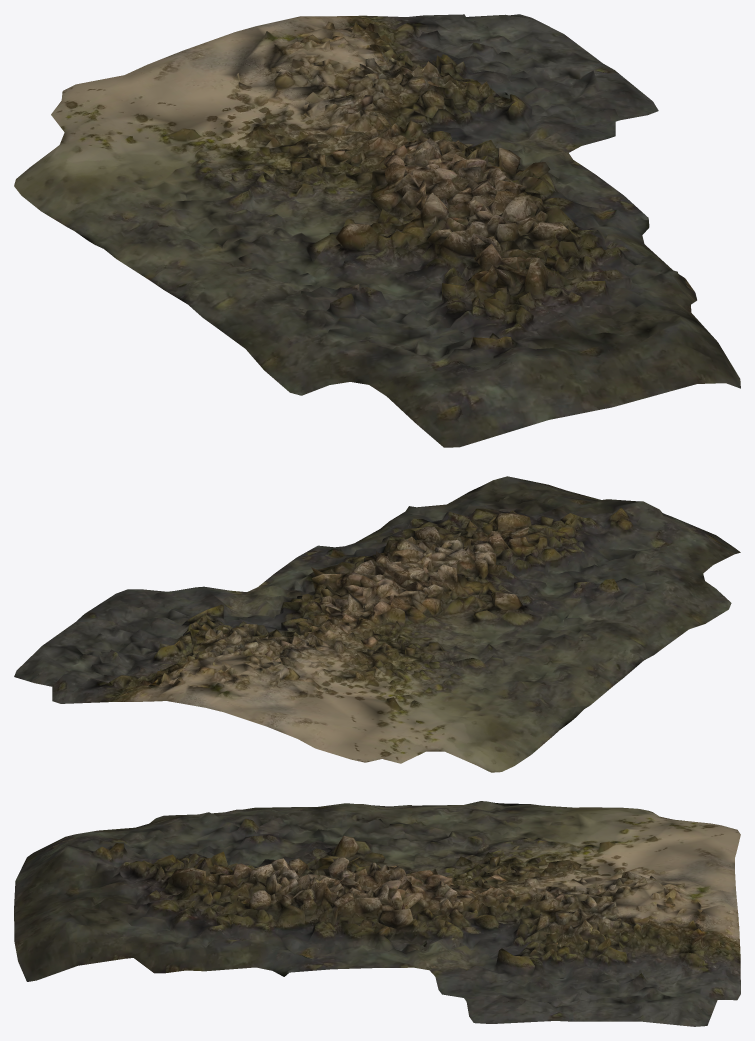
File: coast_rocks_03.glb
3 renders of one model, top to bottom at view 1: azimuth 30°, elevation 25°; view 2: azimuth 150°, elevation 25°; view 3: azimuth 270°, elevation 25°, orthographic. The views are drawn at different scales.
Visible parts, largest first — view 1: coast_rocks_03; view 2: coast_rocks_03; view 3: coast_rocks_03.
Boxes of the visible parts, bbox=[...] form: coast_rocks_03: bbox=[14, 14, 740, 447]; coast_rocks_03: bbox=[14, 476, 740, 772]; coast_rocks_03: bbox=[14, 801, 740, 1026].
Size of the model in its own units: 21.11 by 3.2 by 28.25.
Materials: 1 (1 with a texture image).
